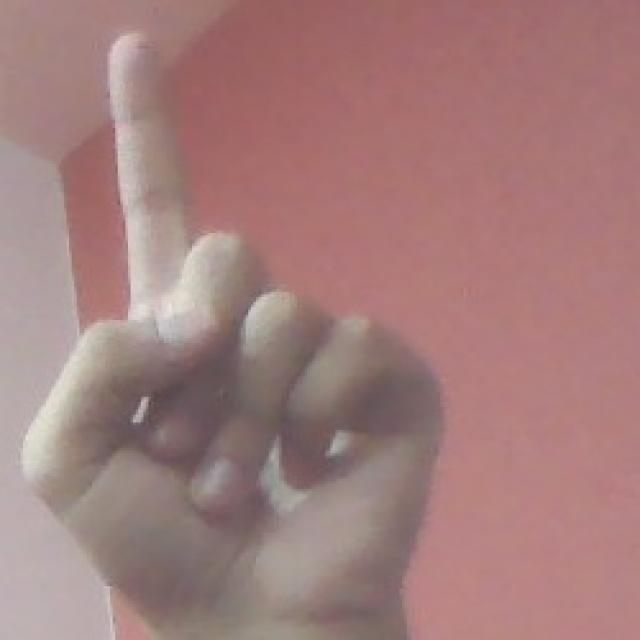Numeric-1: (26, 28, 441, 624)
